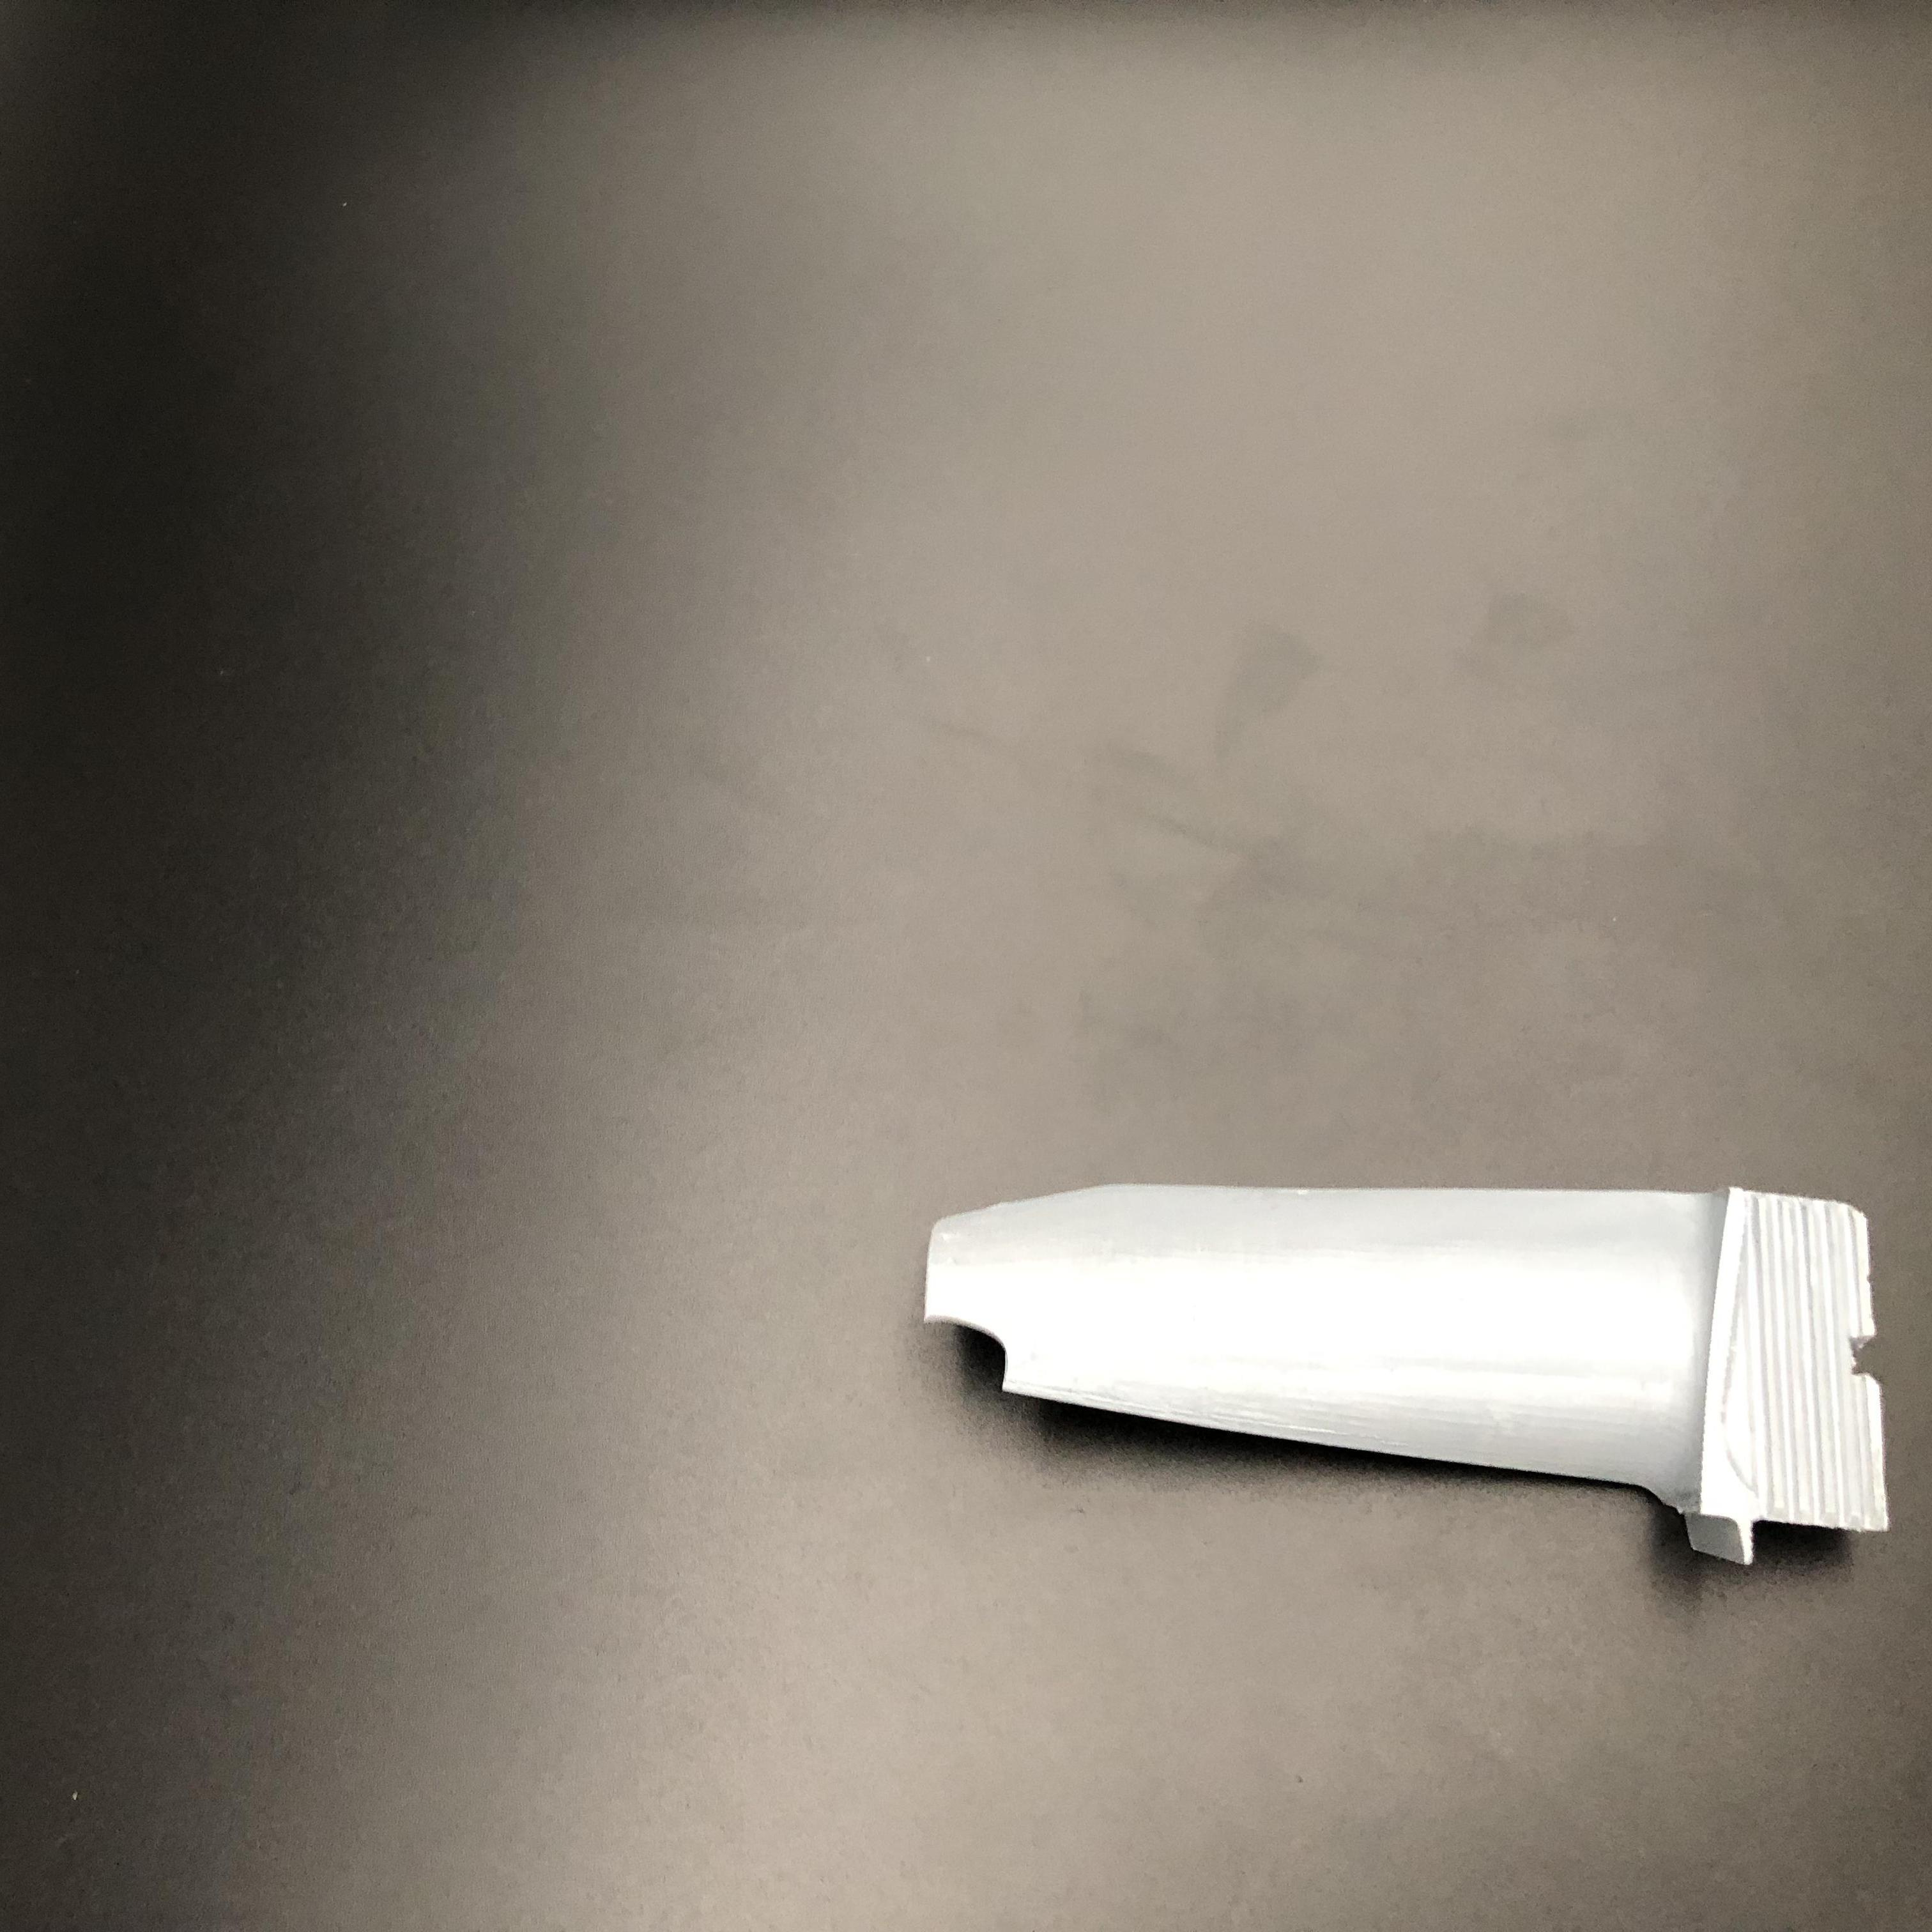fracture: (927, 1306, 1037, 1399)
